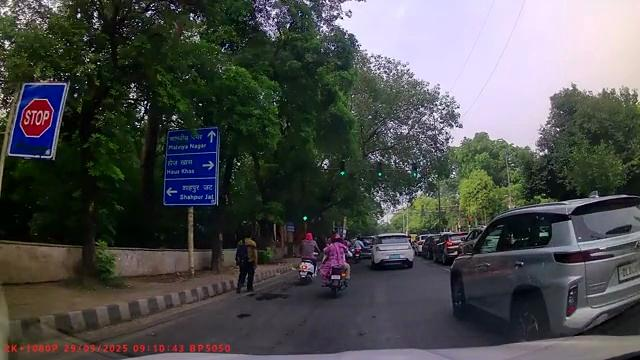motorcycle_without_helmet: (297, 231, 319, 284)
passenger_with_helmet: (321, 233, 352, 294)
